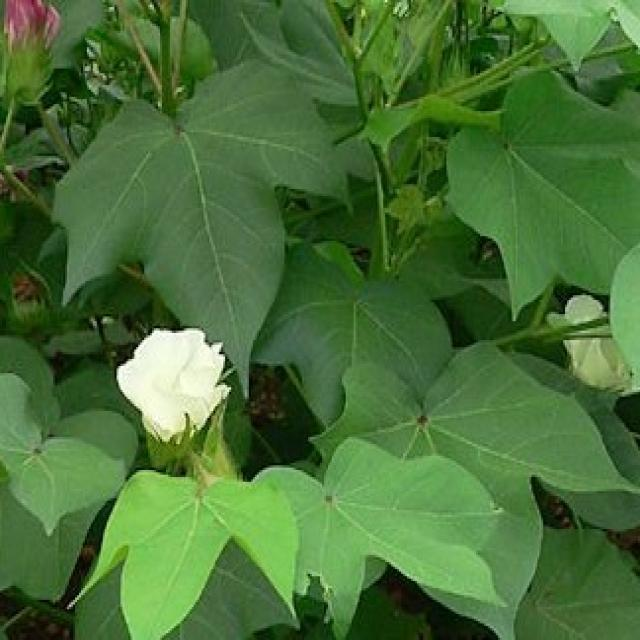Healthy Leaf: (8, 12, 640, 640)
